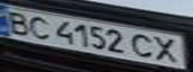1: (69, 20, 90, 48)
2: (106, 26, 130, 56)
4: (51, 18, 75, 45)
5: (87, 24, 109, 52)
B: (3, 8, 33, 36)
C: (127, 30, 160, 61), (24, 14, 54, 40)
X: (151, 34, 184, 65)
